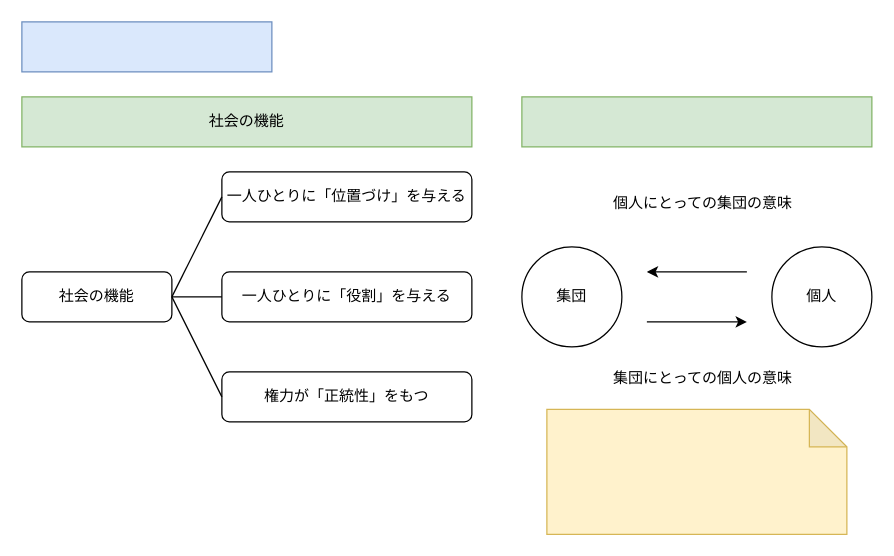
Image size: 894x556. Some labels were removed from this diagram. Each missing label, with the centre of its shape:
応答と飽和 ～社会の機能～: (x=146, y=46)
社会の目的、目標、理念、理想が、 個人のそれと関連して意味をもつとき、 はじめて社会が意味のあるものとなる。 ※社会を、組織、集団と置き換えても可: (x=696, y=471)
集団と個人: (x=696, y=121)
